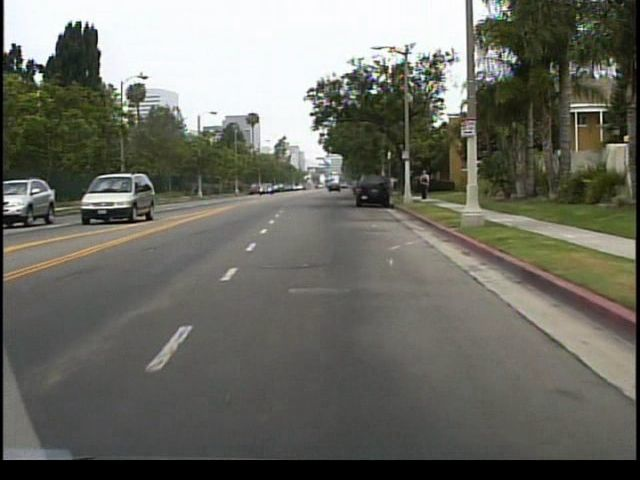person: (416, 169, 431, 204), (423, 169, 426, 204)
